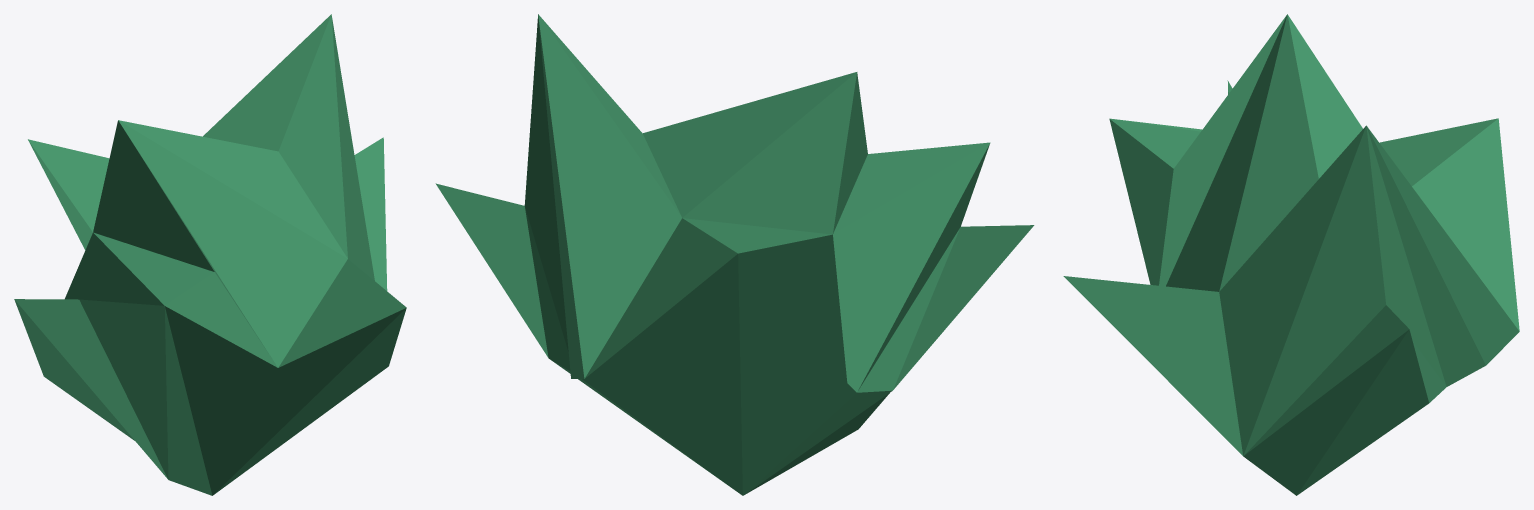
Rendered from bush6.fbx.
3 views of the same model, side by side, from view 1: azimuth 30°, elevation 25°; view 2: azimuth 150°, elevation 25°; view 3: azimuth 270°, elevation 25° (orthographic). The views are drawn at different scales.
Visible parts, largest first — view 1: bush6; view 2: bush6; view 3: bush6.
Boxes of the visible parts, left/top/right/bottom form: bush6: left=14, top=14, right=406, bottom=495; bush6: left=435, top=14, right=1034, bottom=495; bush6: left=1063, top=14, right=1519, bottom=495.
Bounding box in the file's own units: 103 × 91.56 × 84.23.
